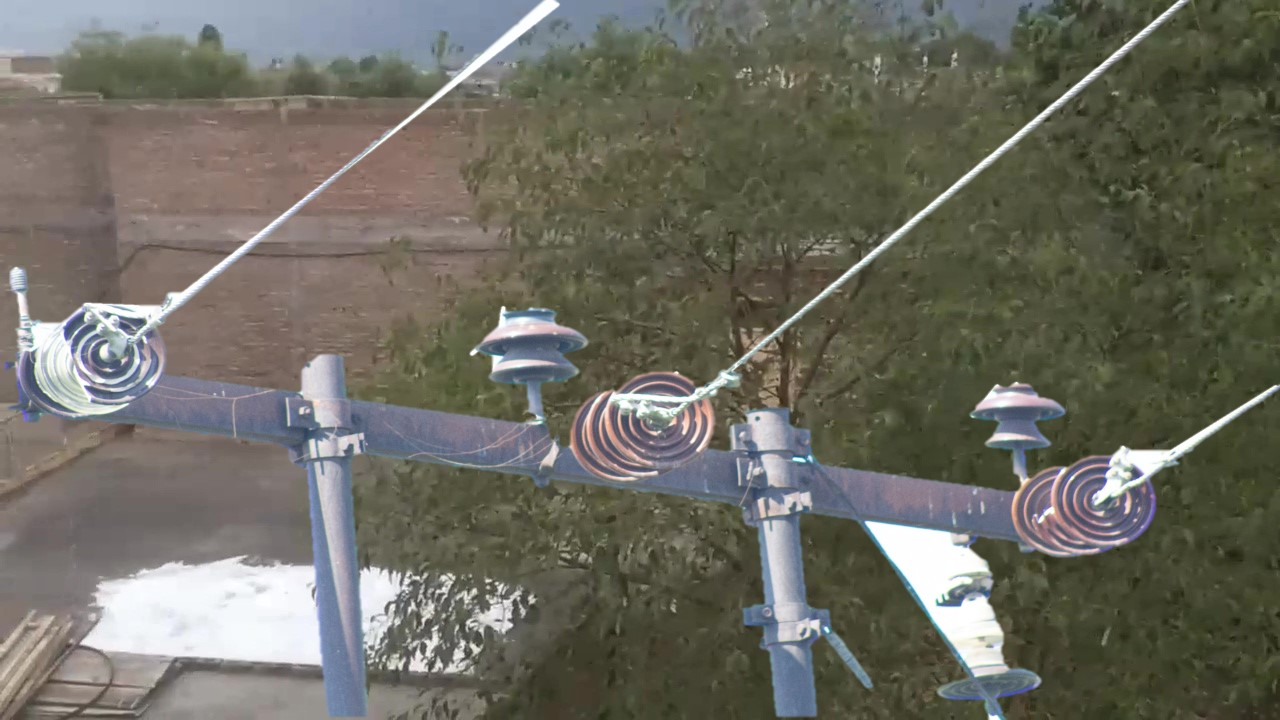defect_disc: (60, 290, 170, 416)
insulator_disc: (1042, 447, 1161, 547), (602, 364, 716, 465)
